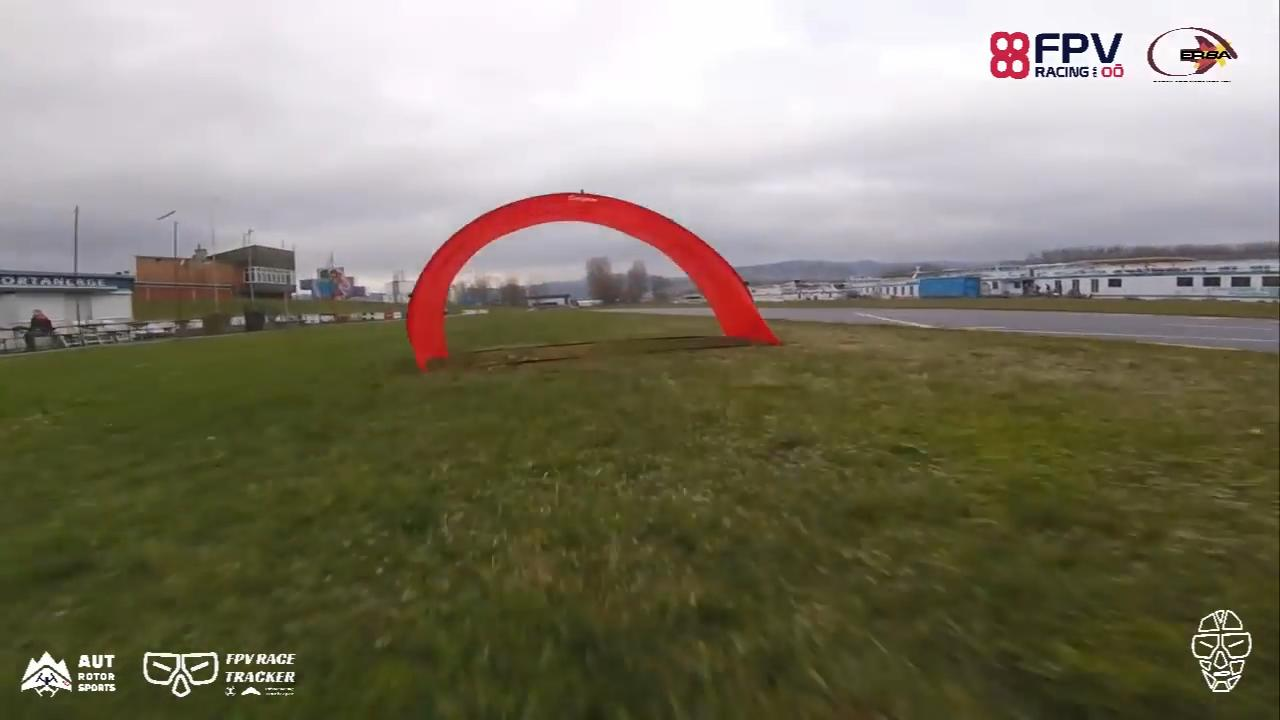gate: (400, 186, 788, 368)
